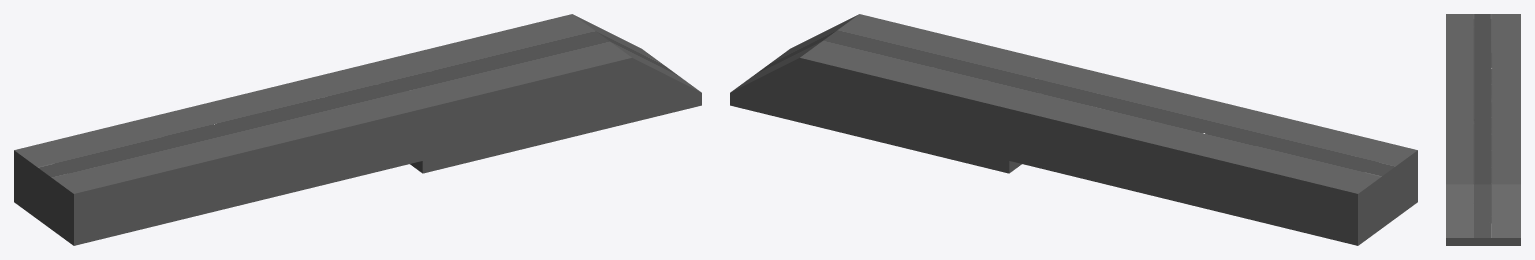
The model's file is LightObject.obj.
The picture shows the model from 3 angles, left to right: view 1: azimuth 30°, elevation 25°; view 2: azimuth 150°, elevation 25°; view 3: azimuth 270°, elevation 25°; orthographic projection. The views are drawn at different scales.
Visible parts, largest first — view 1: pCube1; view 2: pCube1; view 3: pCube1.
Part boxes in pixels (x1,y1,x2,y2): pCube1: (14,14,701,245); pCube1: (730,14,1417,245); pCube1: (1446,14,1520,245).
Bounding box in the file's own units: 2.44 × 0.2401 × 0.4017.
1 material, 1 textured.
